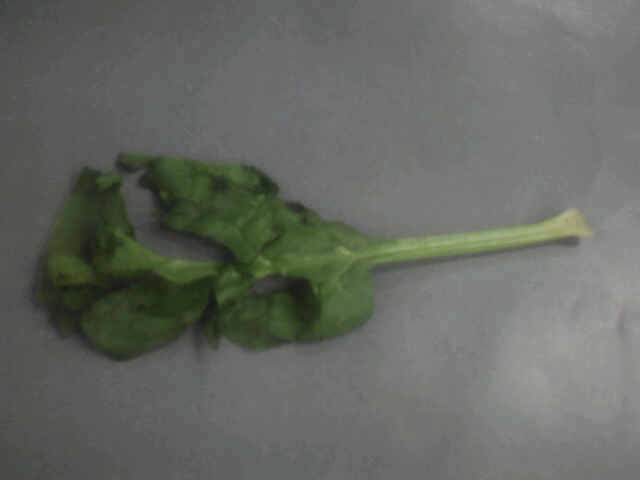yellow: (22, 148, 471, 368)
